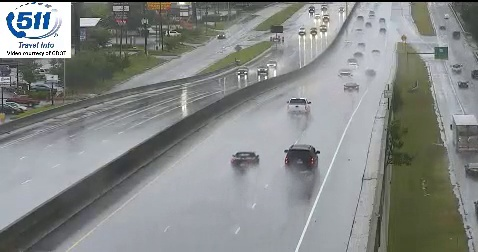car: (285, 144, 319, 171), (232, 151, 258, 169), (287, 97, 309, 116)
